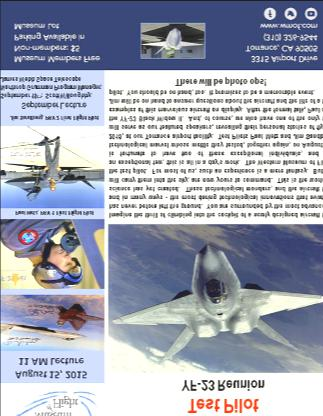US2: (109, 242, 322, 366), (3, 164, 103, 202), (140, 26, 204, 56), (1, 321, 88, 341), (56, 301, 104, 330)
